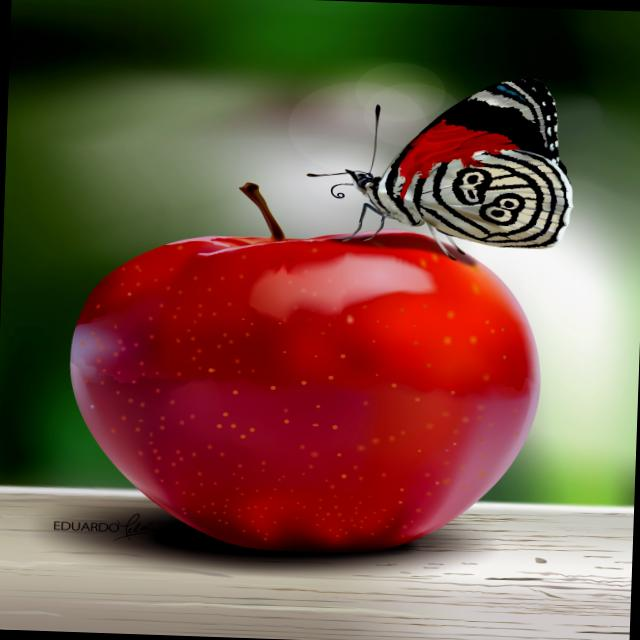Fresh_Apple: (58, 206, 558, 564)
